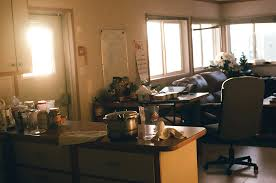Chair: (195, 74, 265, 179)
